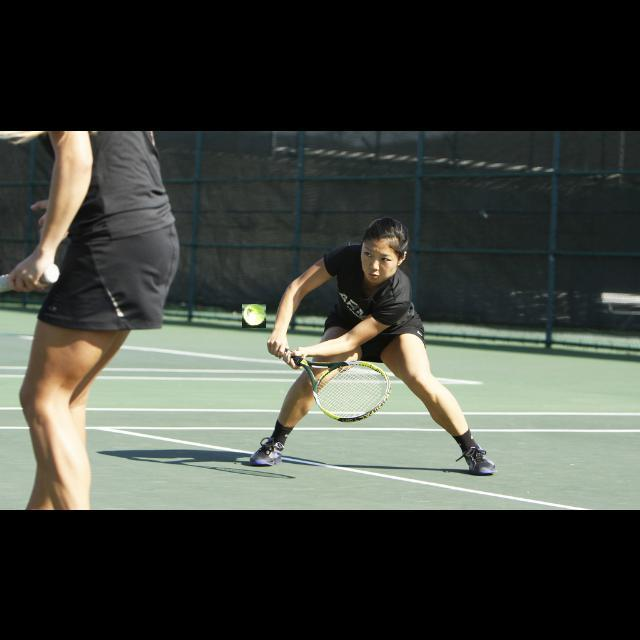tennis ball: (242, 304, 266, 328)
